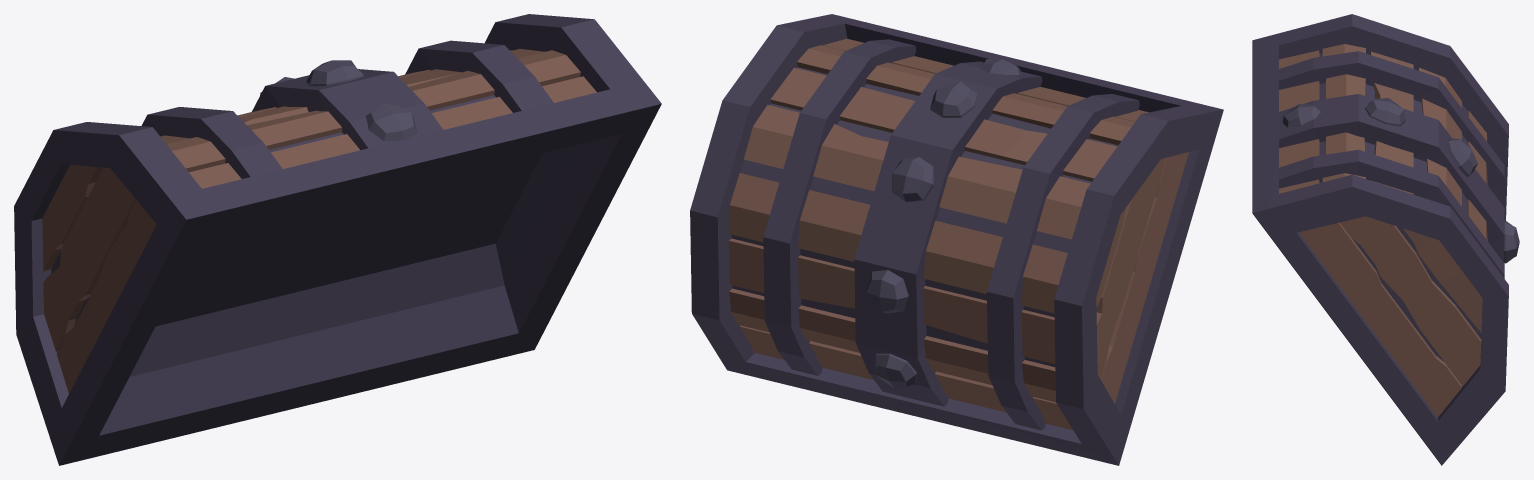
Rendered from Chest_Lid.fbx.
The picture shows the model from 3 angles, left to right: view 1: azimuth 30°, elevation 25°; view 2: azimuth 150°, elevation 25°; view 3: azimuth 270°, elevation 25°; orthographic projection. The views are drawn at different scales.
Parts seen in each view (by area): view 1: Chest_Ingots; view 2: Chest_Ingots; view 3: Chest_Ingots.
Boxes of the visible parts, x1,y1,x2,y2 form: Chest_Ingots: [14, 14, 661, 465]; Chest_Ingots: [690, 14, 1223, 465]; Chest_Ingots: [1252, 14, 1519, 465].
Size of the model in its own units: 9.5 by 6.21 by 7.16.
